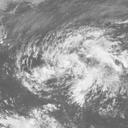cyclone: (14, 25, 127, 104)
